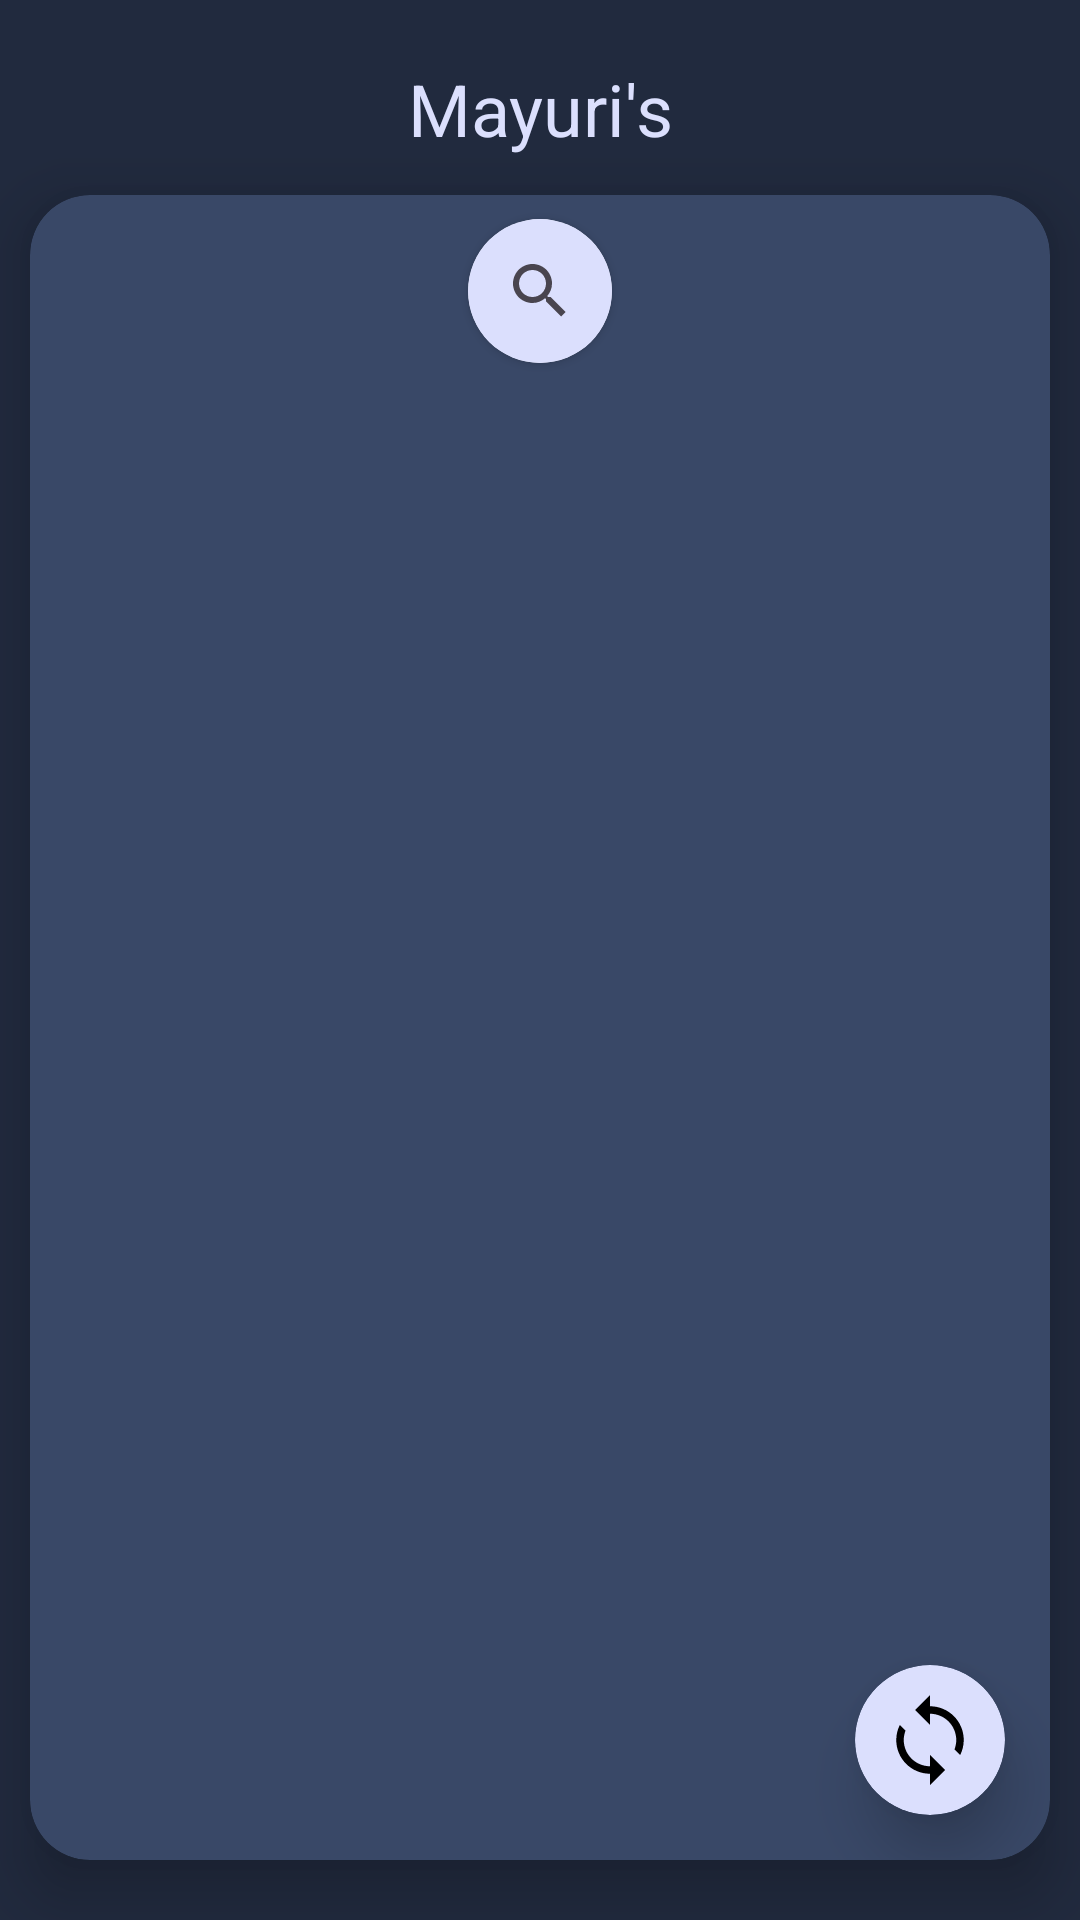

Screen size 1080px x 1920px. Icon name, then its box in pixels as (x1, y1, x2, y2):
reload: (896, 1695, 964, 1785)
